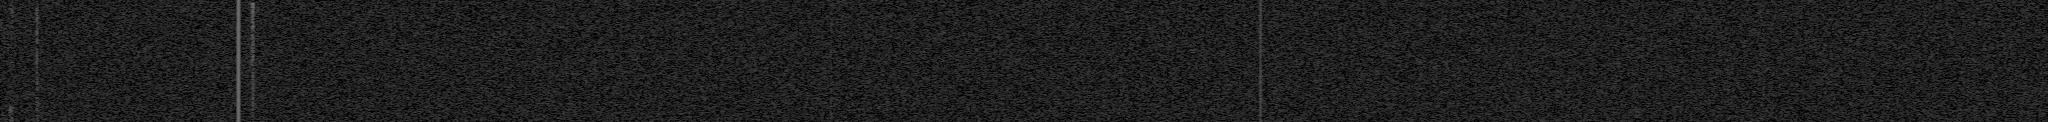wv_am: (1258, 0, 1263, 122), (829, 0, 833, 80), (829, 112, 835, 119), (829, 98, 833, 108), (829, 87, 833, 94), (829, 81, 835, 85)
wv_cw: (235, 0, 242, 122)
wv_lsb: (246, 1, 256, 122), (7, 3, 14, 122)
wv_usb: (34, 3, 42, 122)
